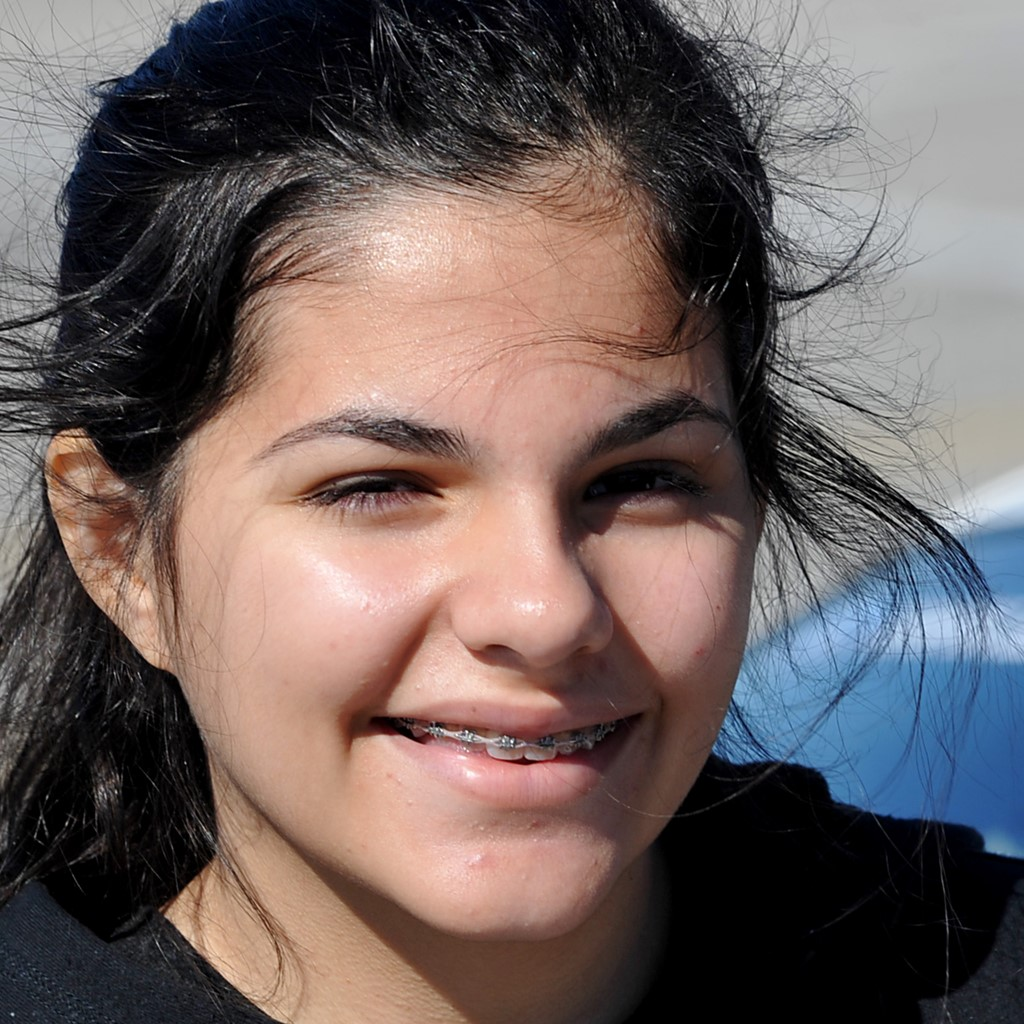sin_mascara: (126, 56, 749, 906)
